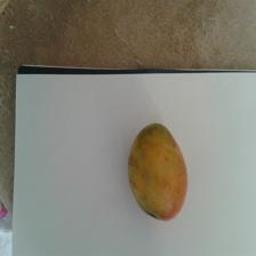Mango Semifresh: (116, 95, 193, 220)
